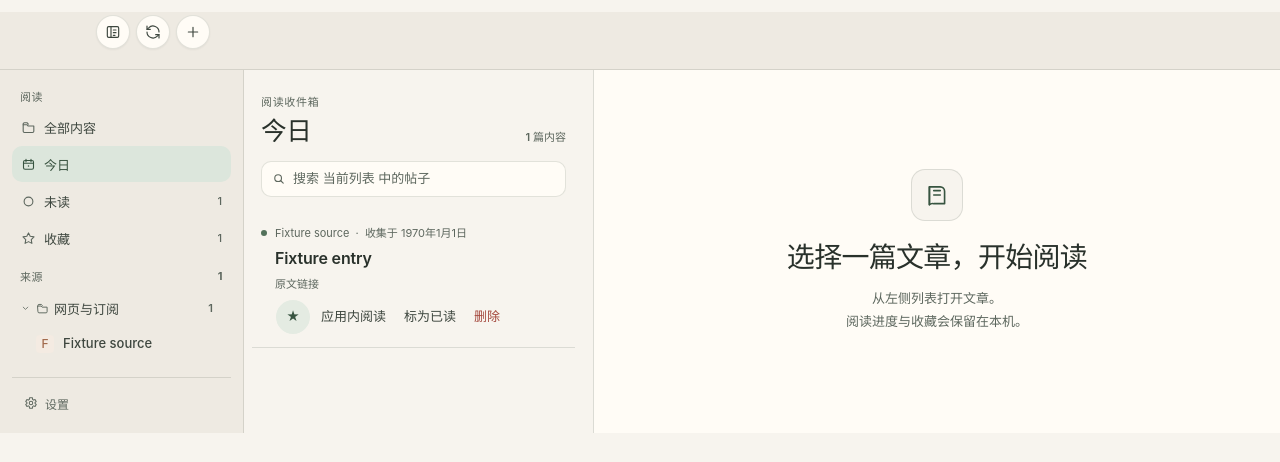
Test: reports a current mutation failure and lets a later retry report its own failure
Click the button named "收藏" at (293, 316), box [276,300,310,334]
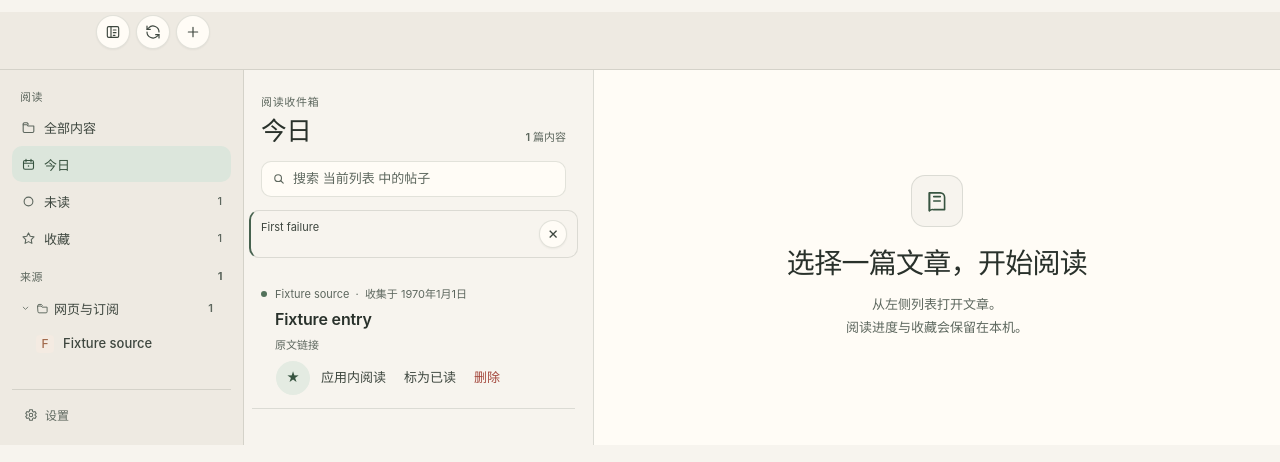
Check: the message with class "notice-message" reads "First failure", box [261,220,319,234]
Click the button named "收藏" at (293, 378), box [276,360,310,394]
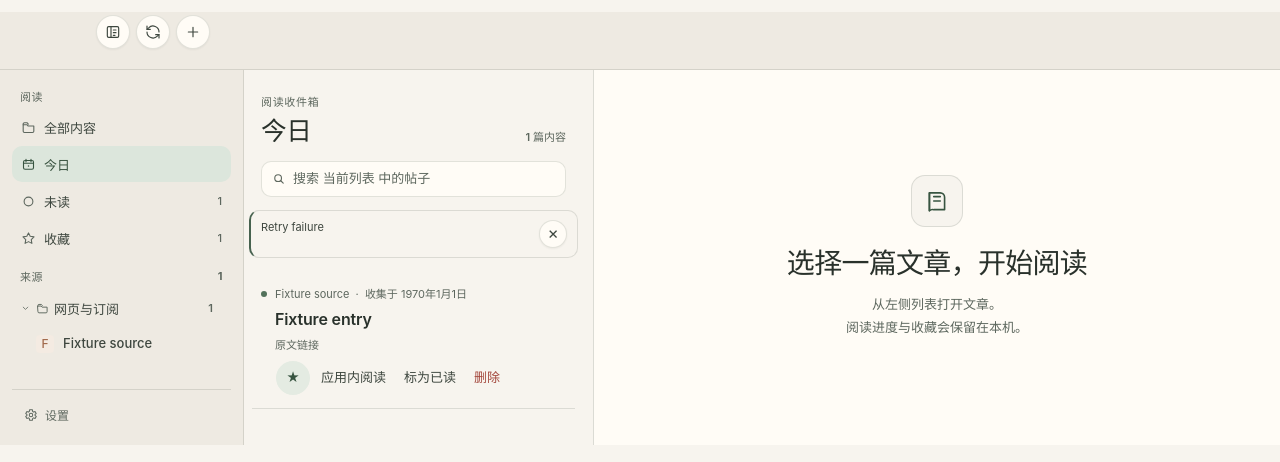
Check: the message with class "notice-message" reads "Retry failure", box [261,220,324,234]
